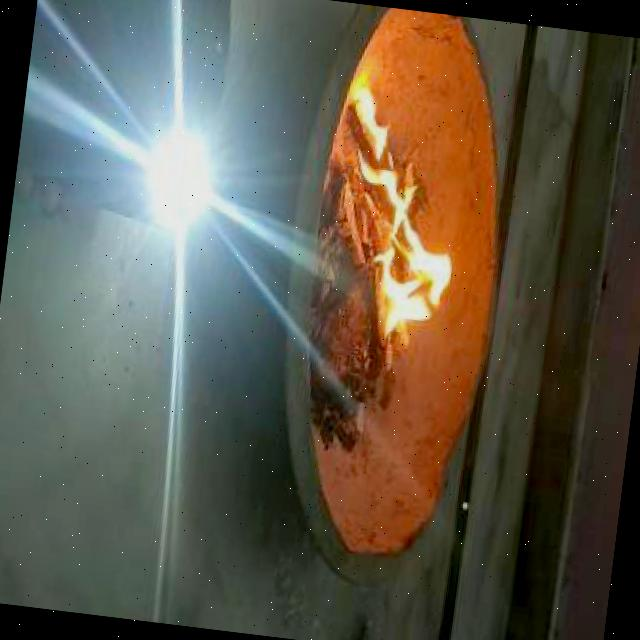fire: (319, 81, 484, 352)
